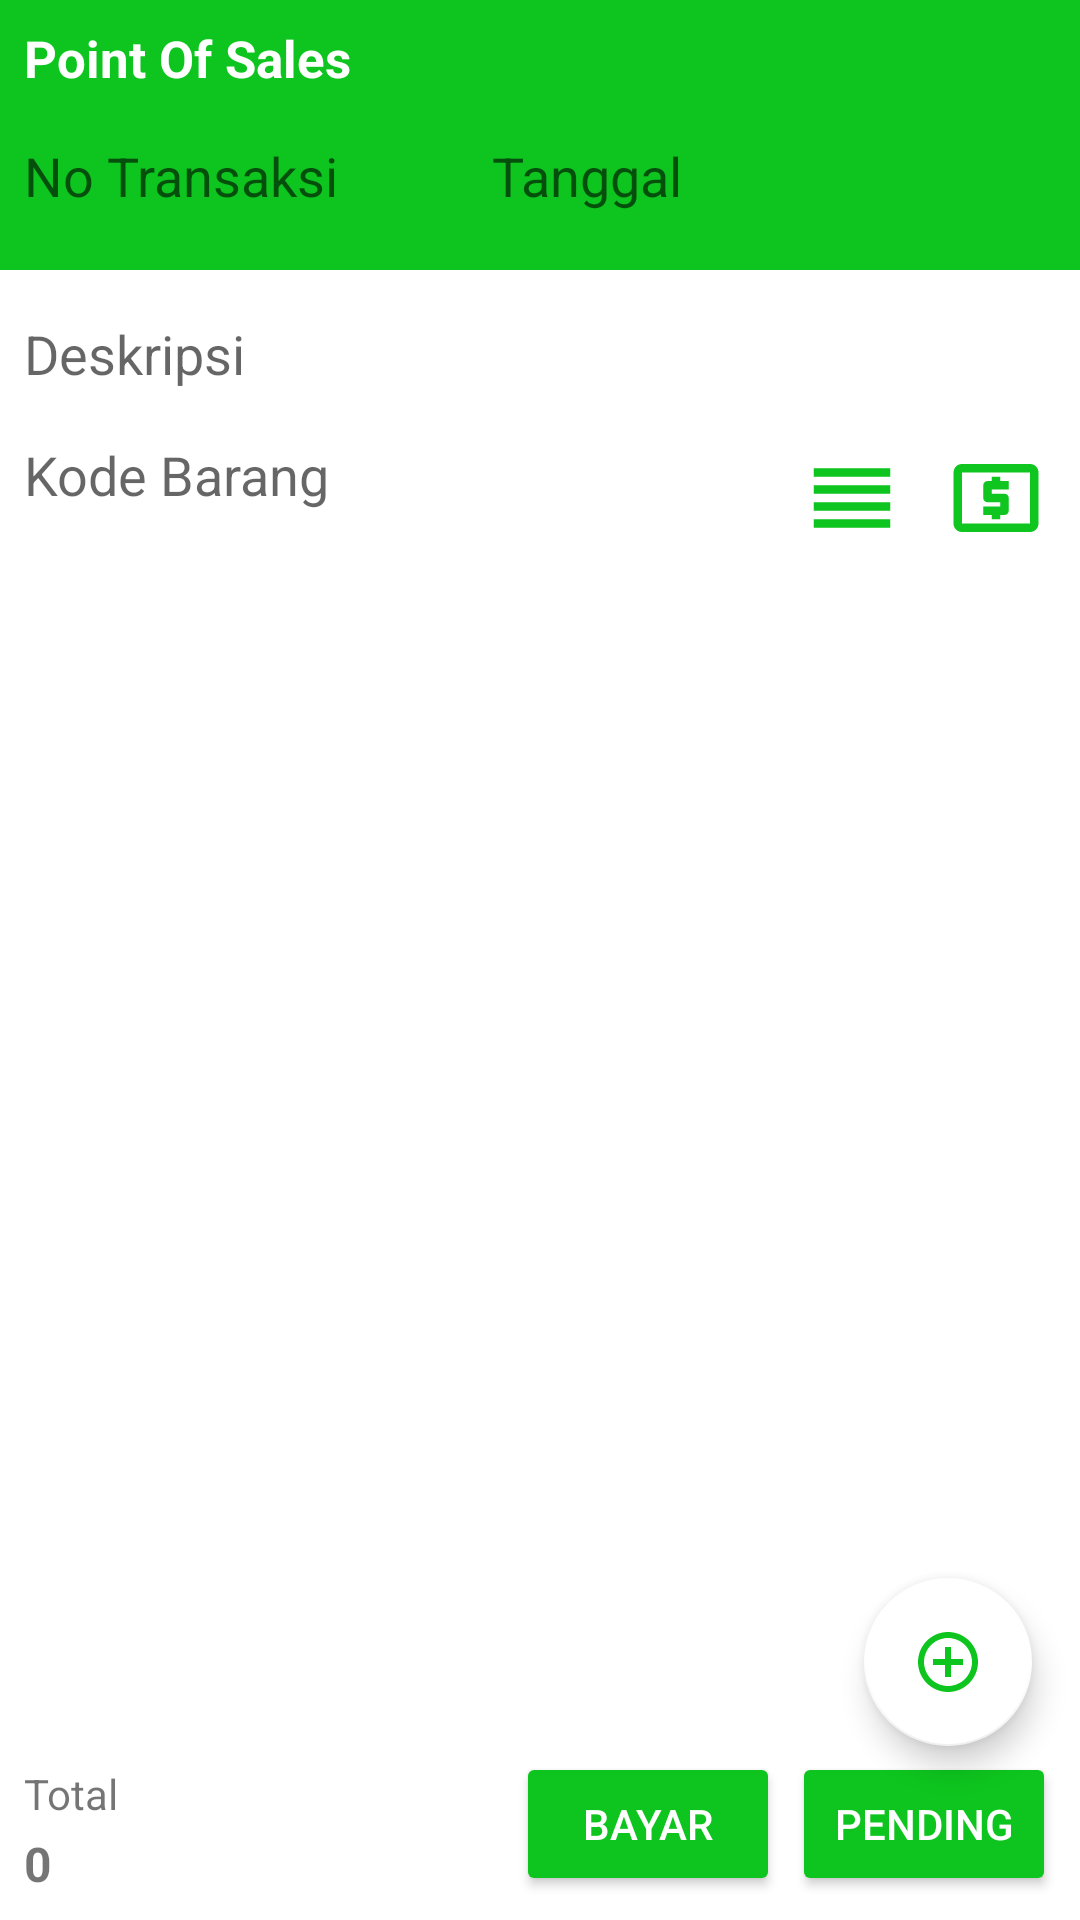

Where to tap for icons on this 1080w x 1920h app screen, as [x,y]:
local atm: [996,498]
reorder: [852,498]
